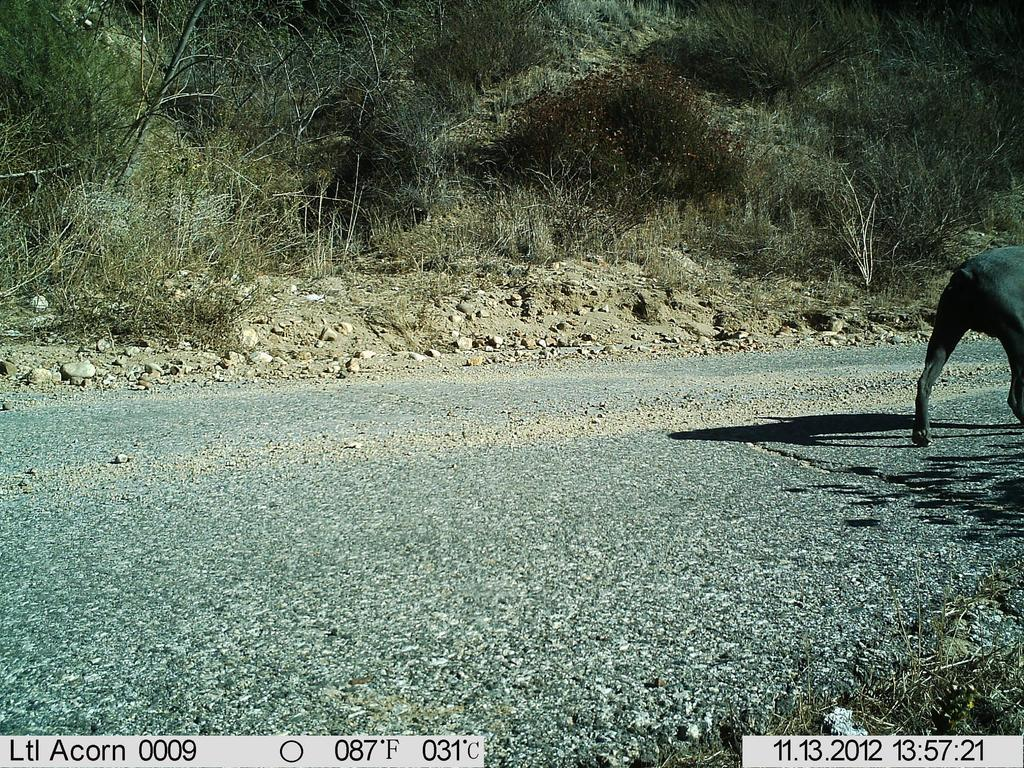dog: (913, 235, 1019, 453)
